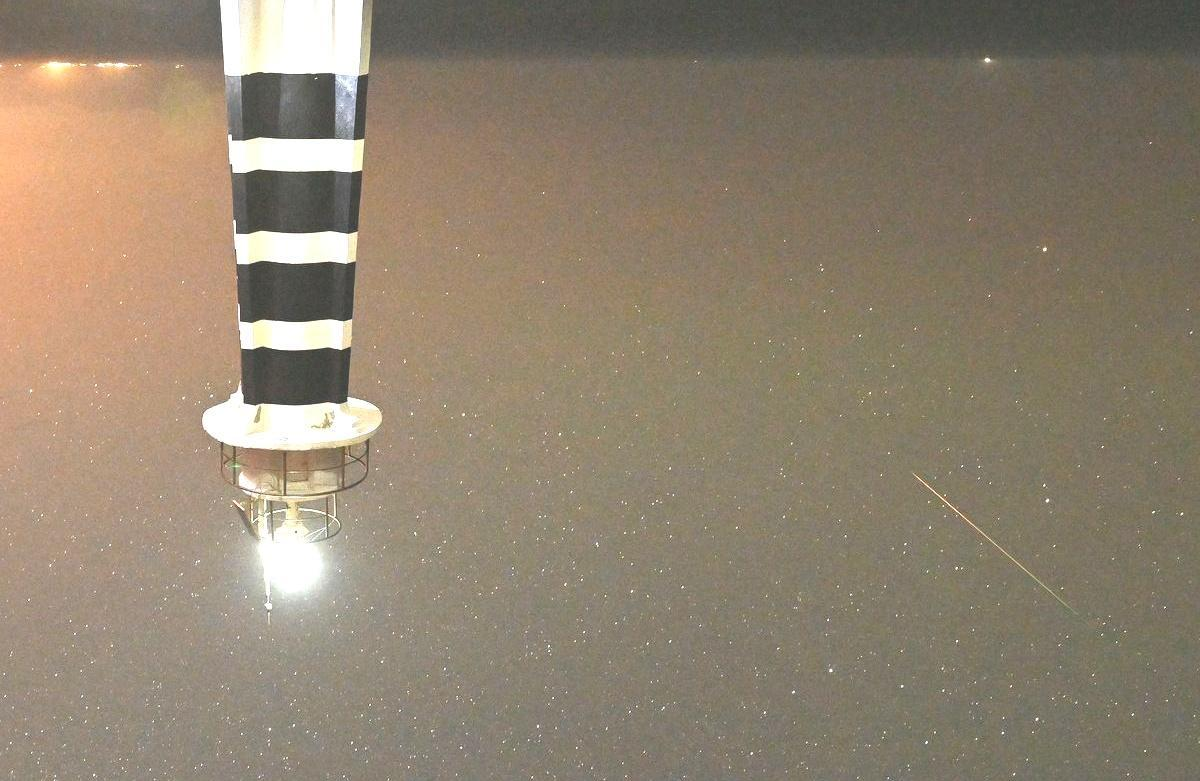meteorite: (883, 457, 1078, 618)
